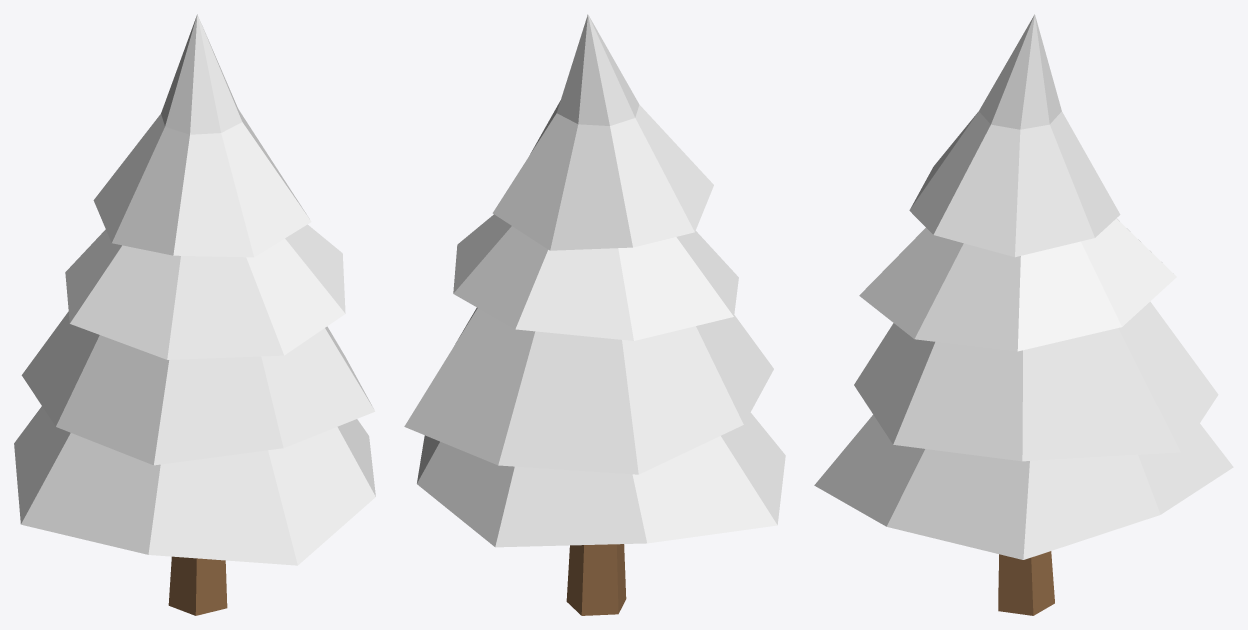
File: Fir_Tree_OneSided_m_Snow_04_LOD.fbx
3 views of the same model, side by side, from view 1: azimuth 30°, elevation 25°; view 2: azimuth 150°, elevation 25°; view 3: azimuth 270°, elevation 25° (orthographic).
Visible parts, largest first — view 1: Fir_Tree_OneSided_m_Snow_04_LOD0; view 2: Fir_Tree_OneSided_m_Snow_04_LOD0; view 3: Fir_Tree_OneSided_m_Snow_04_LOD0.
Part boxes in pixels (x1=…): Fir_Tree_OneSided_m_Snow_04_LOD0: x1=14, y1=14, x2=375, y2=615; Fir_Tree_OneSided_m_Snow_04_LOD0: x1=404, y1=14, x2=785, y2=615; Fir_Tree_OneSided_m_Snow_04_LOD0: x1=814, y1=14, x2=1233, y2=615.
Size of what is drawn, in the model's own units: 394 by 632 by 406.
